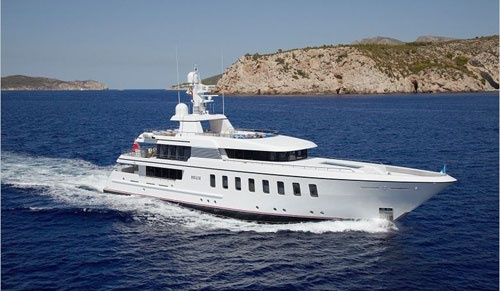yacht: (100, 67, 459, 224)
